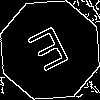E: (25, 25, 77, 82)
